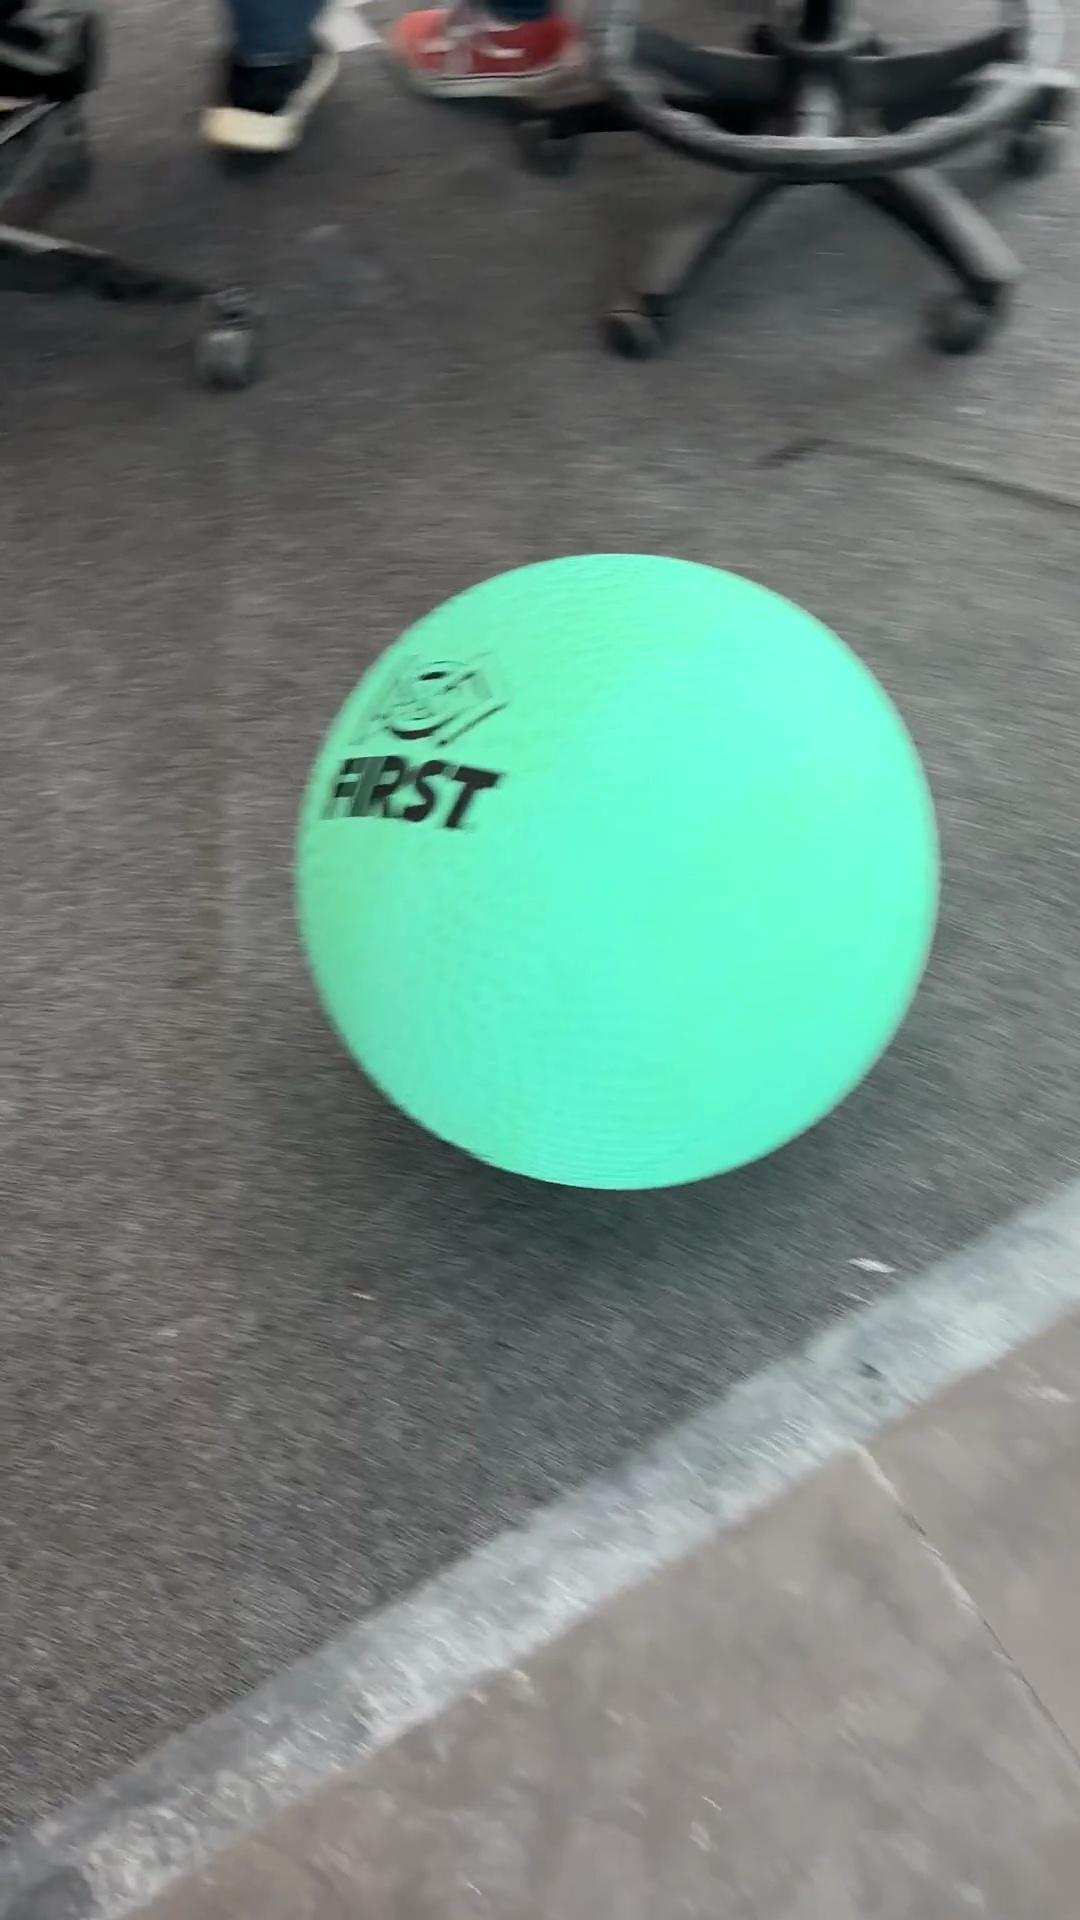ALGAE: (290, 547, 943, 1193)
